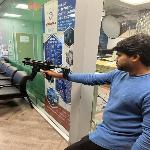Senapan: (14, 48, 76, 94)
